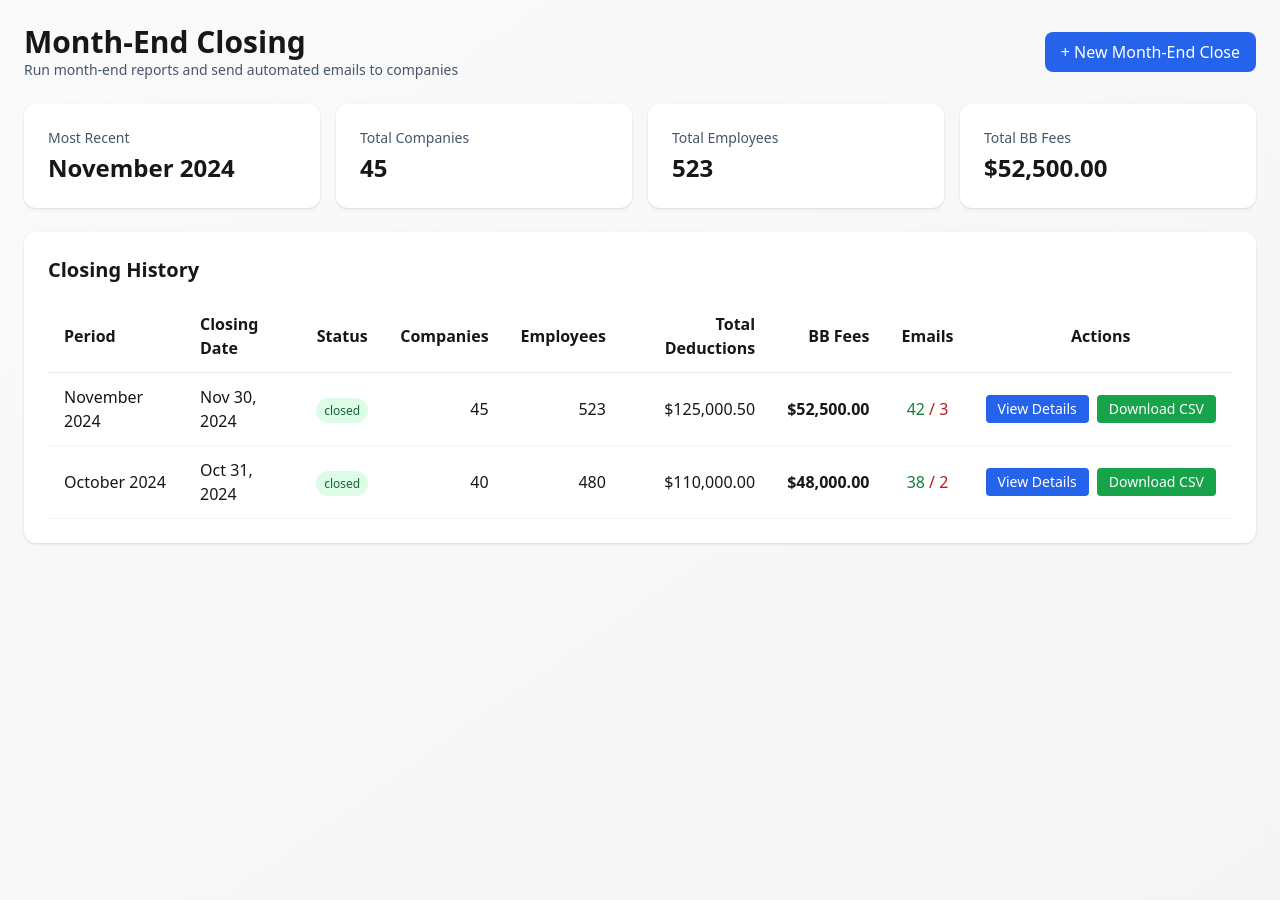
Test: MonthEndManager Component › New Closing Modal › should show loading state during submission
Click the button "+ New Month-End Close" at (1150, 52), box [1045,32,1256,72]
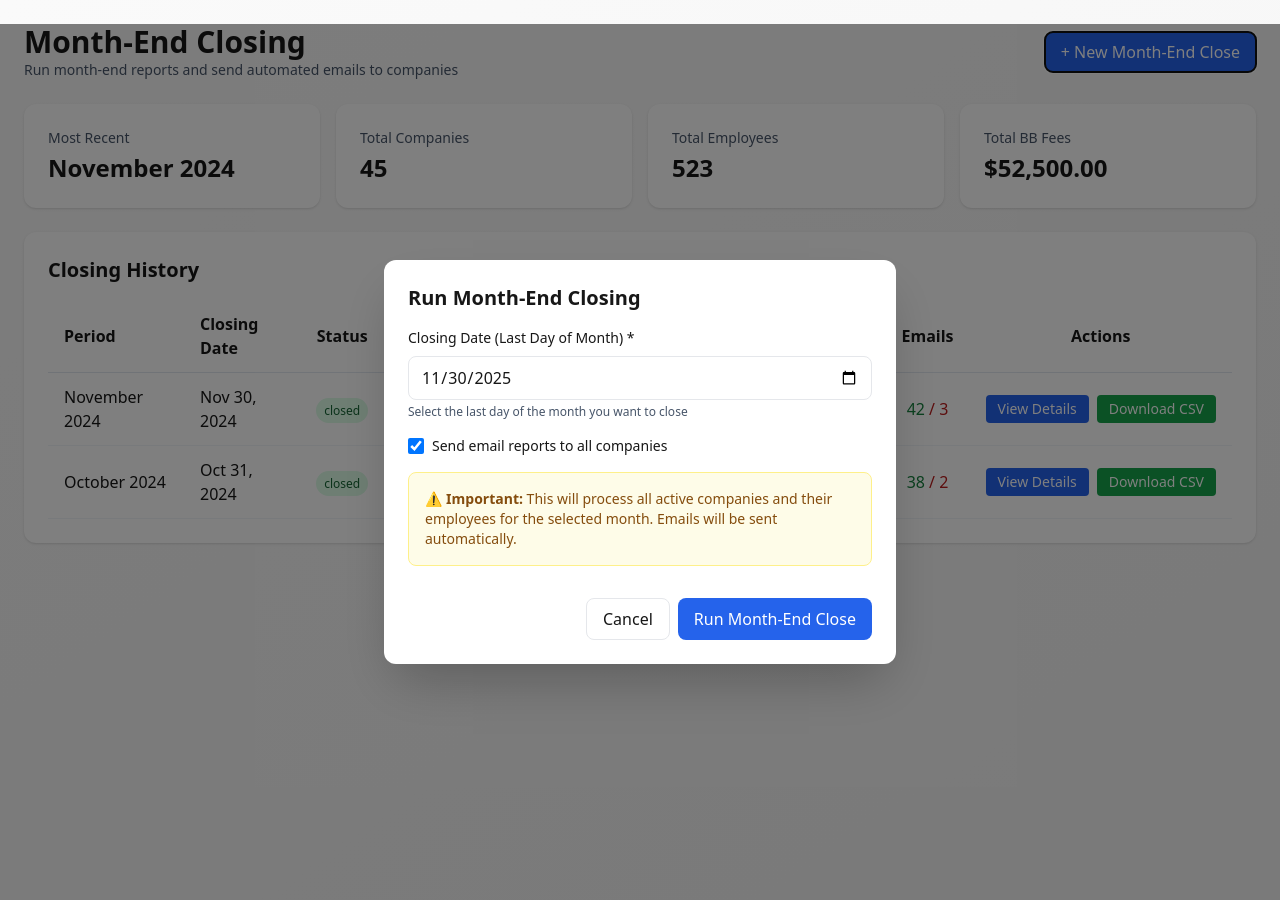
Expected: the heading "Run Month-End Closing" is shown, [408,284,641,311]
Click the button "Run Month-End Close" at (775, 619), box [678,598,872,640]
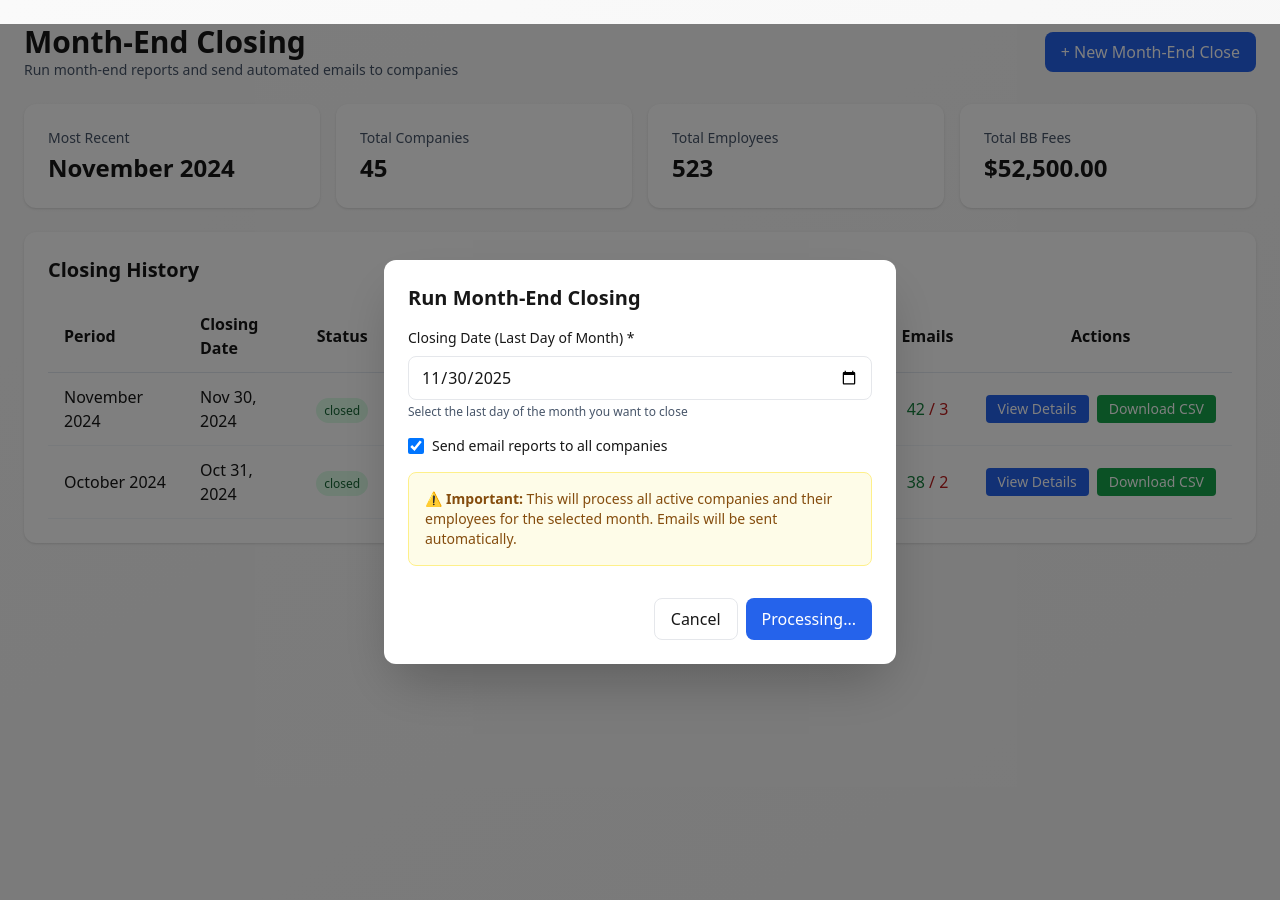
Expected: the button "Processing..." is disabled, [746,598,872,640]
